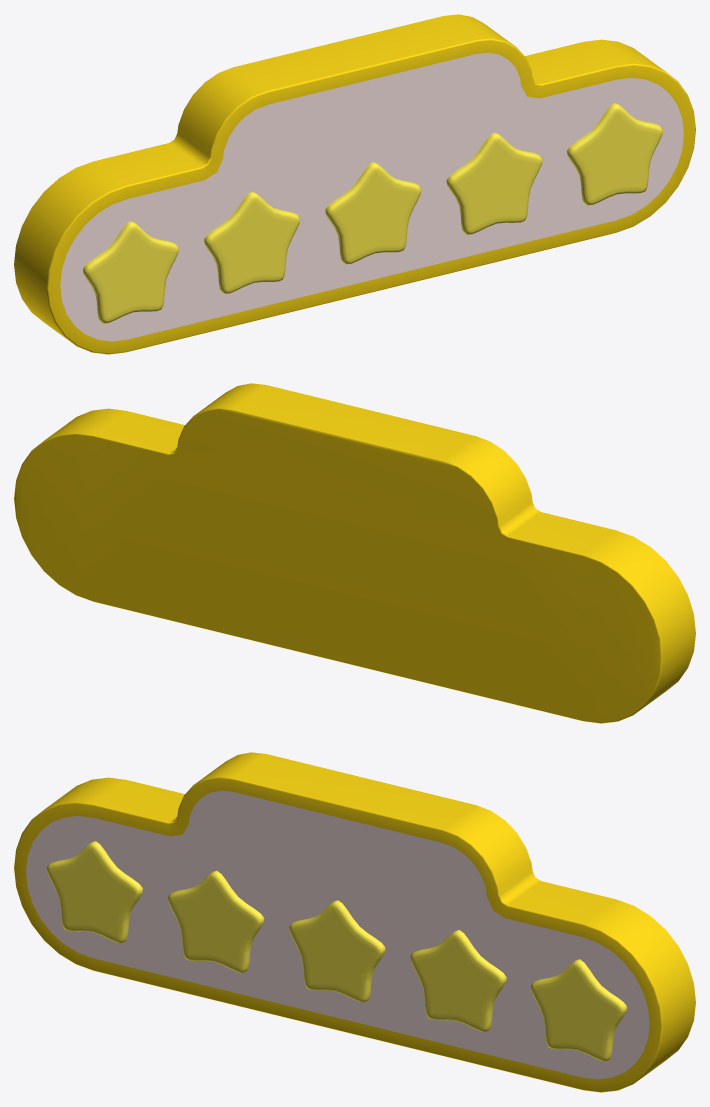
Rendered from Public_7_Hotel_Stars_Sign_1.glb.
3 renders of one model, top to bottom at view 1: azimuth 30°, elevation 25°; view 2: azimuth 150°, elevation 25°; view 3: azimuth 330°, elevation 25°, orthographic.
Visible parts, largest first — view 1: Public_7_Hotel_Stars_Sign_1; view 2: Public_7_Hotel_Stars_Sign_1; view 3: Public_7_Hotel_Stars_Sign_1.
Part boxes in pixels (bbox=[...]): Public_7_Hotel_Stars_Sign_1: bbox=[14, 14, 695, 354]; Public_7_Hotel_Stars_Sign_1: bbox=[14, 383, 695, 723]; Public_7_Hotel_Stars_Sign_1: bbox=[14, 752, 695, 1092].
Bounding box in the file's own units: 3.43 × 1.15 × 0.3456.
Materials: 1 (1 with a texture image).
